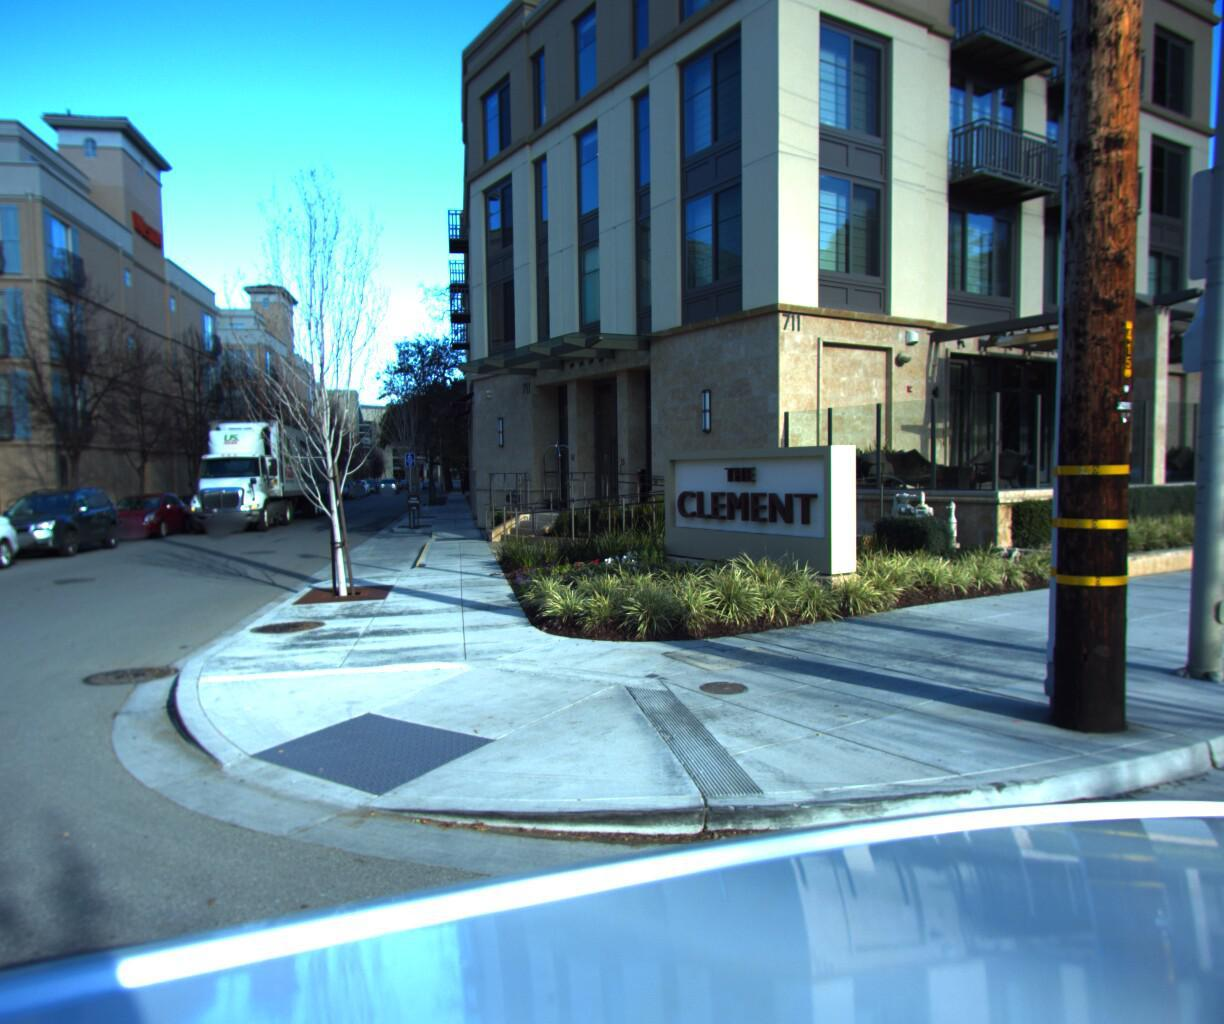car: (0, 483, 132, 563), (90, 489, 198, 541), (0, 494, 34, 598)
truck: (165, 407, 336, 536)
